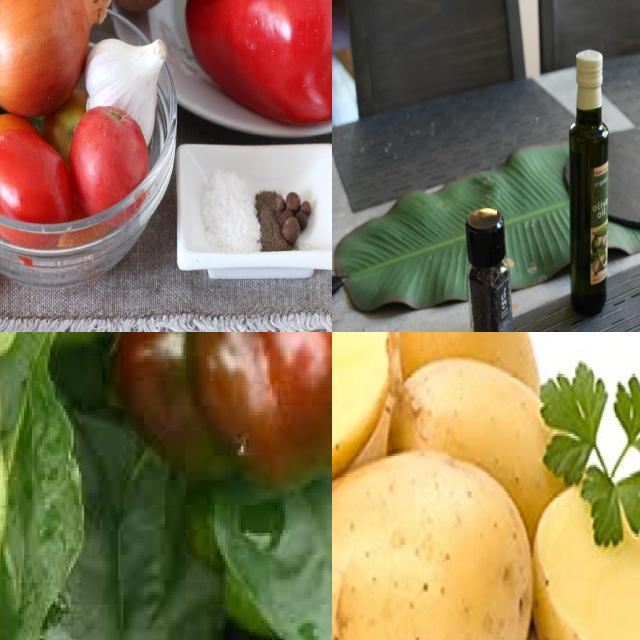bell_pepper: (59, 333, 333, 524), (190, 1, 333, 138), (461, 206, 513, 333)
garlic: (89, 26, 167, 150)
onion: (1, 1, 113, 111)
potato: (333, 459, 532, 640), (398, 362, 575, 531), (529, 479, 640, 640), (333, 333, 396, 517), (399, 333, 543, 388)
tomato: (1, 108, 70, 262)
